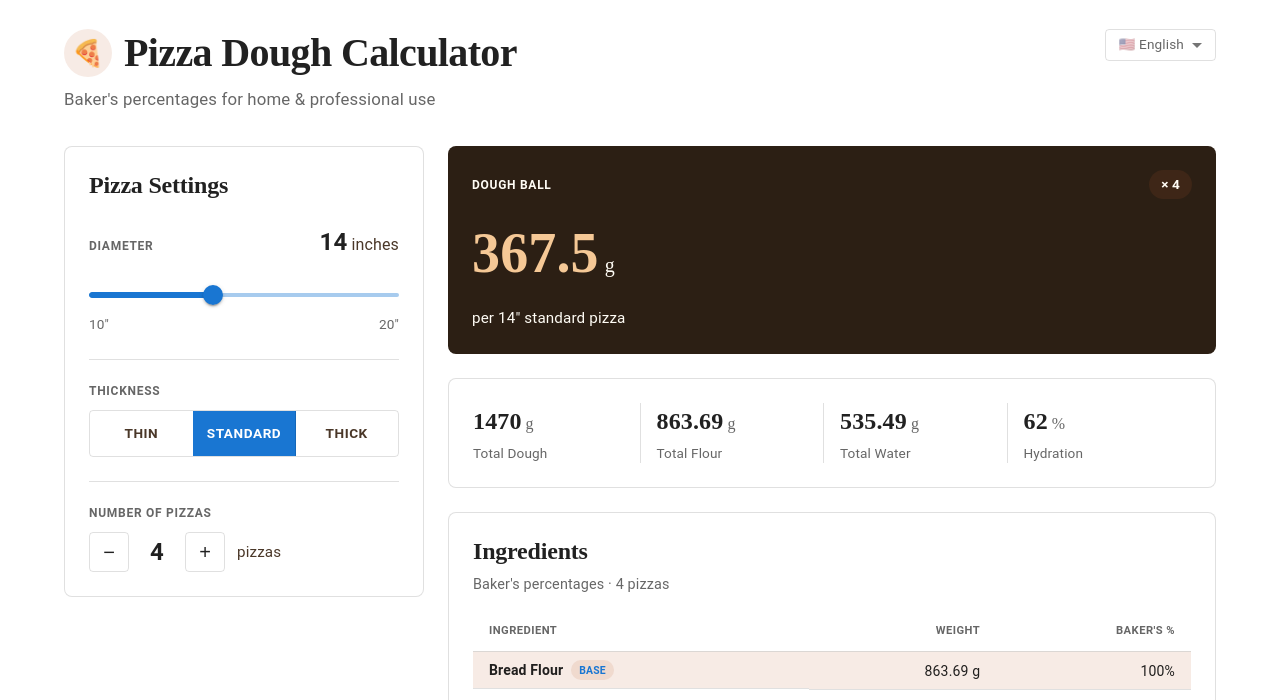
Test case: <App /> › updates the Dough Ball, Recipe Summary, and Ingredients when the diameter and pizza count change, reaching the canonical 16-inch/6-pizza reference values
This screenshot has width=1280, height=700.
Step 1. Press Arrowright Arrowright
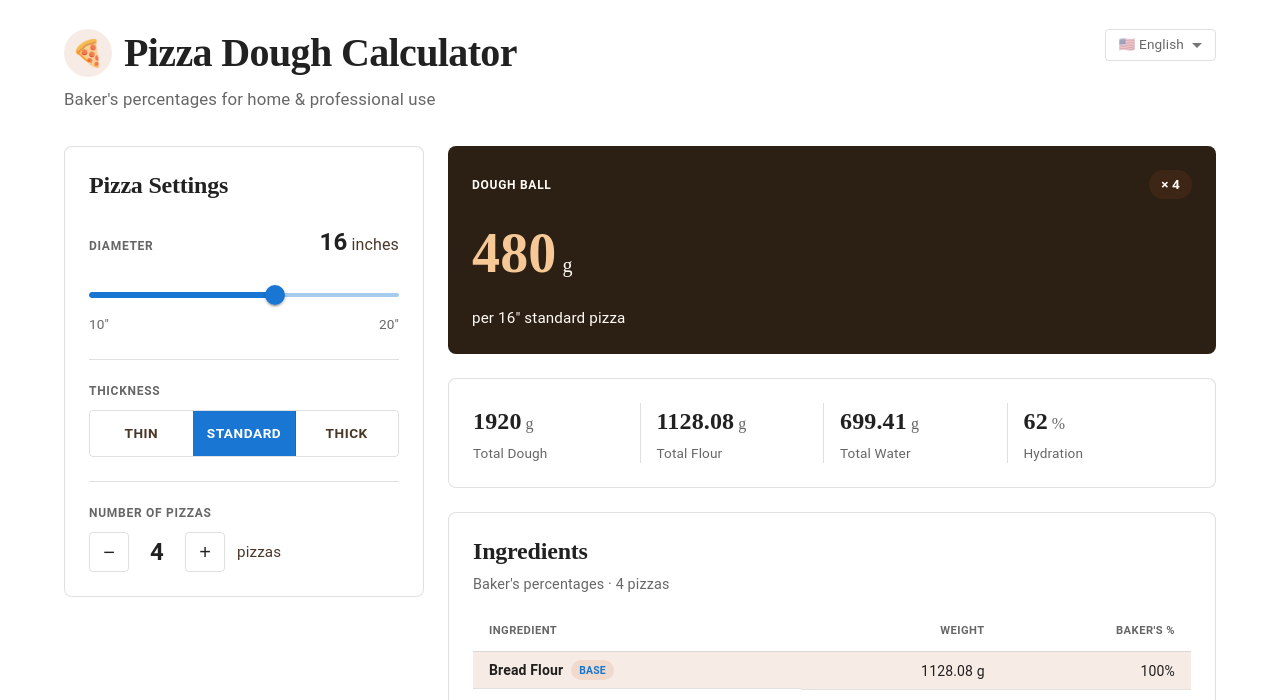
Step 2. Click the button named "Increase number of pizzas" → click(205, 552), box x1=185 y1=532 x2=225 y2=572
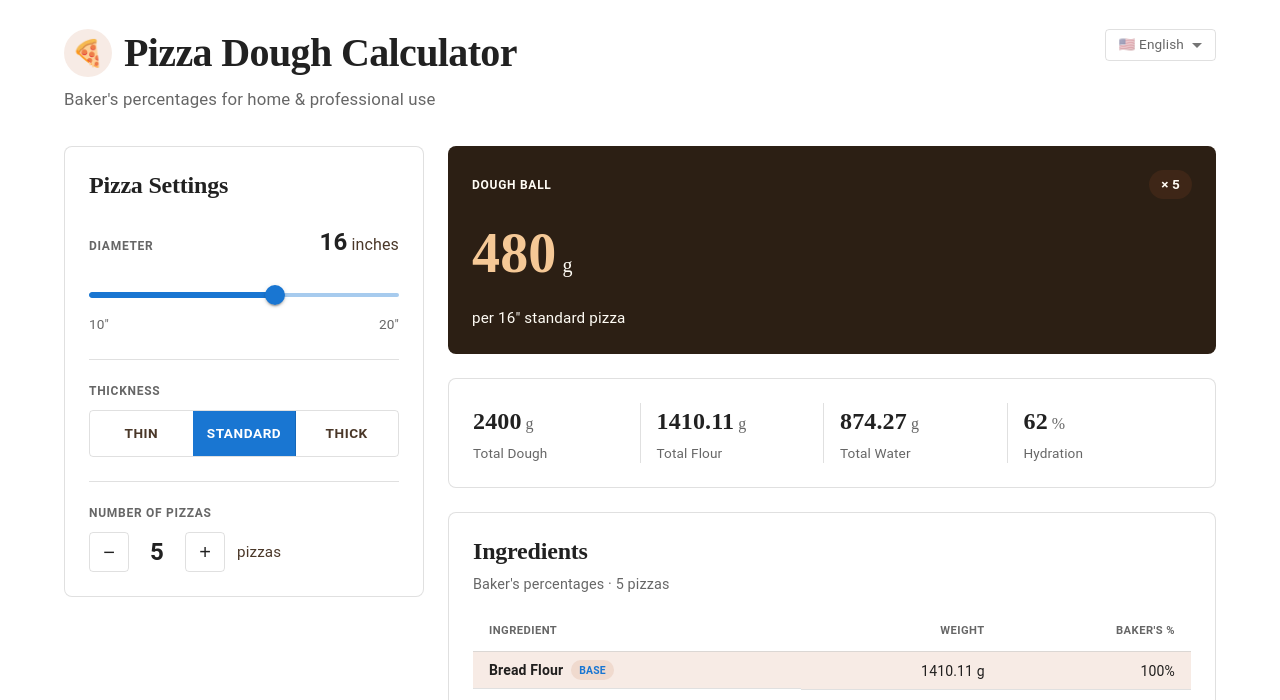
Step 3. Click the button named "Increase number of pizzas" → click(205, 552), box x1=185 y1=532 x2=225 y2=572
(page scrolled)
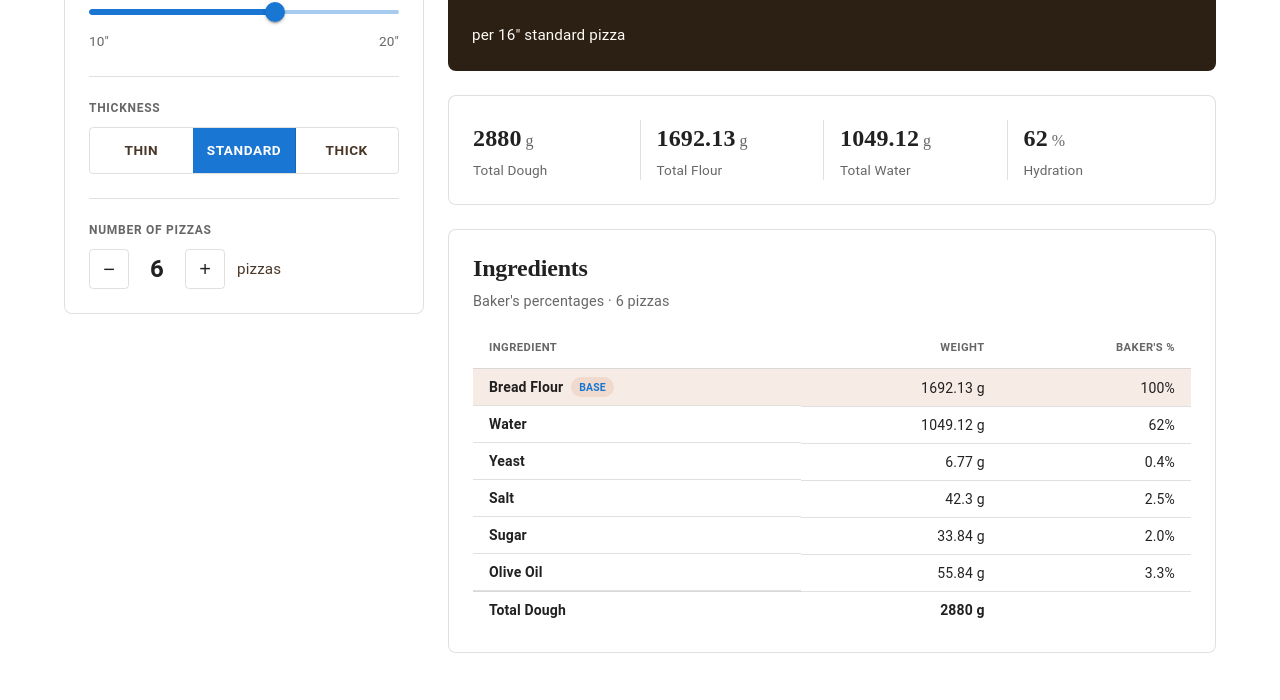
Now the text "2880" is shown, box x1=473 y1=125 x2=522 y2=151
Now the text "1692.13" is shown, box x1=656 y1=125 x2=736 y2=151
Now the text "1049.12" is shown, box x1=840 y1=125 x2=919 y2=151
